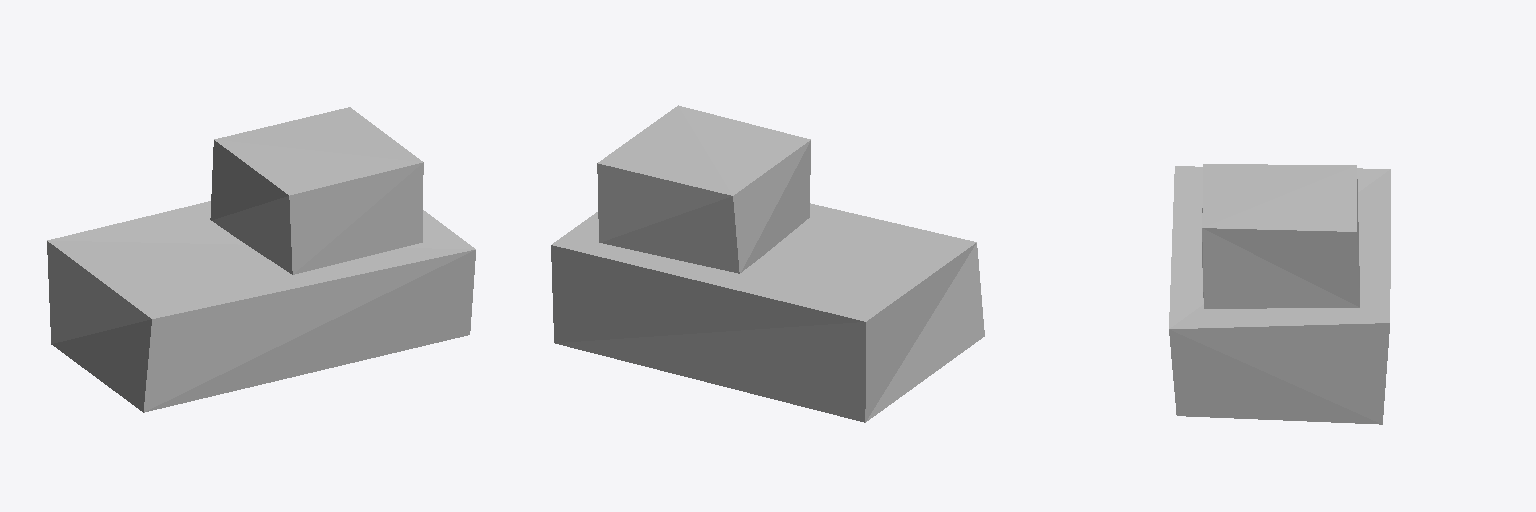
The model's file is meshdump.obj.
The picture shows the model from 3 angles: view 1: azimuth 30°, elevation 25°; view 2: azimuth 150°, elevation 25°; view 3: azimuth 270°, elevation 25°; orthographic projection.
Parts seen in each view (by area): view 1: MESH; view 2: MESH; view 3: MESH.
Boxes of the visible parts, x1=… form: MESH: x1=47, y1=107, x2=475, y2=412; MESH: x1=551, y1=105, x2=984, y2=422; MESH: x1=1169, y1=164, x2=1390, y2=424.
Bounding box in the file's own units: 3.4 × 1.79 × 1.99.